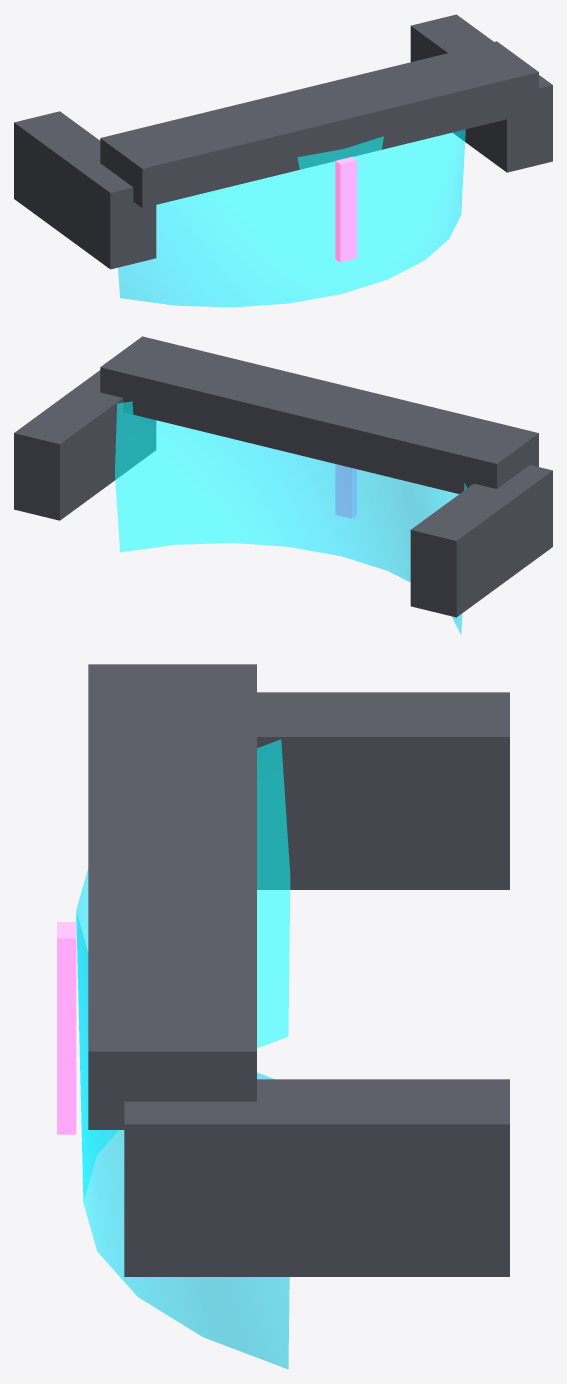
The model's file is cyber_visor.glb.
3 views of the same model, one above another, from view 1: azimuth 30°, elevation 25°; view 2: azimuth 150°, elevation 25°; view 3: azimuth 270°, elevation 25° (orthographic). The views are drawn at different scales.
Visible parts, largest first — view 1: FrameNode, ShieldNode, ScannerNode; view 2: FrameNode, ShieldNode, ScannerNode; view 3: FrameNode, ShieldNode, ScannerNode.
Boxes of the visible parts, x1,y1,x2,y2 form: FrameNode: (14,14,552,269); ShieldNode: (118,129,465,307); ScannerNode: (335,157,356,262); FrameNode: (14,336,552,617); ShieldNode: (115,401,466,634); ScannerNode: (335,464,356,518); FrameNode: (88,664,509,1276); ShieldNode: (76,739,290,1368); ScannerNode: (57,922,76,1134).
Bounding box in the file's own units: 2.12 × 0.79 × 0.94.
